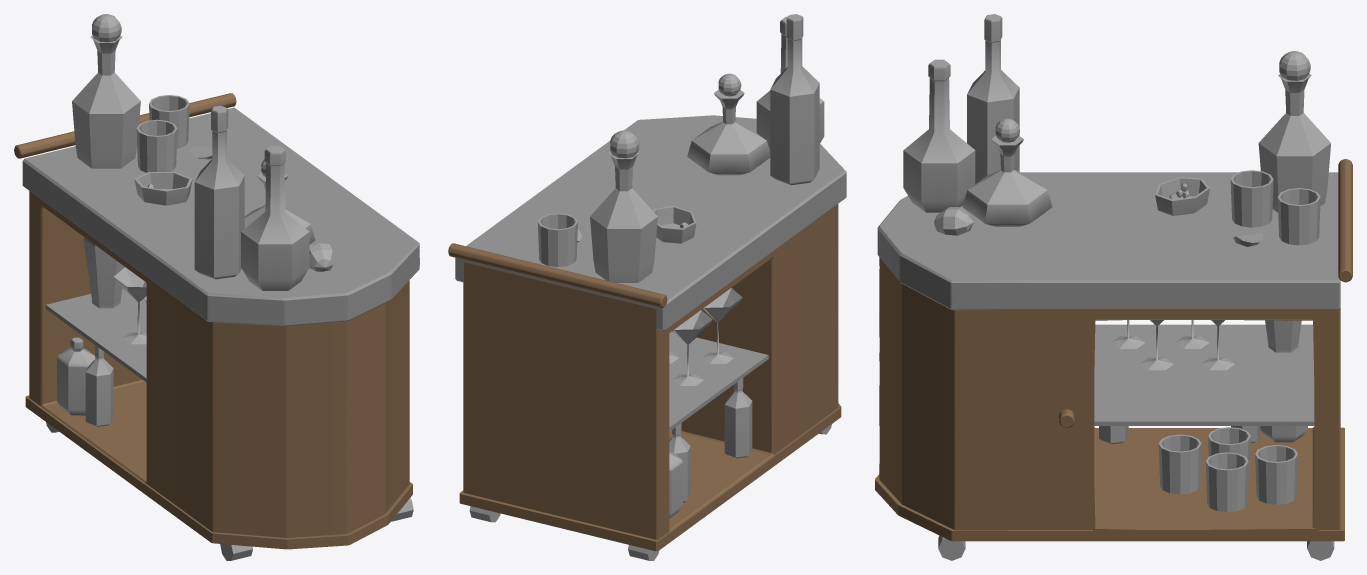
File: PAST-BarCart.fbx
3 renders of one model, left to right at view 1: azimuth 30°, elevation 25°; view 2: azimuth 150°, elevation 25°; view 3: azimuth 270°, elevation 25°, orthographic. The views are drawn at different scales.
Parts seen in each view (by area): view 1: pCylinder1, pCube4, pCylinder7, pCylinder8, pCylinder6, pCylinder16, pCylinder14, pCylinder23, pCylinder17, pCylinder22, pCylinder15, pCylinder19 (+4 smaller); view 2: pCylinder1, pCube4, pCylinder7, pCylinder8, pCylinder9, pCylinder15, pCylinder28, pCylinder22, pCylinder6, pCylinder18, pCylinder19, pCylinder16 (+3 smaller); view 3: pCylinder1, pCube4, pCylinder6, pCylinder8, pCylinder7, pCylinder9, pCylinder27, pCylinder26, pCylinder24, pCylinder14, pCylinder15, pCylinder22 (+6 smaller).
Boxes of the visible parts, box(x1,y1,x2,y2) form: pCylinder1: box(14, 93, 412, 549); pCube4: box(22, 107, 419, 382); pCylinder7: box(194, 105, 244, 279); pCylinder8: box(72, 35, 140, 168); pCylinder6: box(241, 145, 309, 290); pCylinder16: box(57, 337, 95, 415); pCylinder14: box(136, 119, 177, 172); pCylinder23: box(85, 345, 113, 426); pCylinder17: box(83, 237, 124, 308); pCylinder22: box(134, 172, 192, 205); pCylinder15: box(149, 95, 189, 148); pCylinder19: box(114, 267, 146, 344); pCylinder1: box(448, 204, 841, 551); pCube4: box(455, 115, 846, 431); pCylinder7: box(770, 14, 819, 185); pCylinder8: box(590, 151, 657, 282); pCylinder9: box(687, 89, 770, 175); pCylinder15: box(537, 213, 577, 266); pCylinder28: box(724, 378, 752, 458); pCylinder22: box(653, 206, 696, 243); pCylinder6: box(756, 16, 824, 151); pCylinder18: box(702, 288, 742, 363); pCylinder19: box(672, 310, 712, 385); pCylinder16: box(669, 452, 682, 518); pCylinder1: box(875, 159, 1352, 541); pCube4: box(877, 172, 1340, 425); pCylinder6: box(903, 59, 975, 212); pCylinder8: box(1258, 73, 1330, 212); pCylinder7: box(967, 14, 1019, 183); pCylinder9: box(962, 136, 1052, 226); pCylinder27: box(1158, 434, 1201, 494); pCylinder26: box(1205, 452, 1248, 512); pCylinder24: box(1255, 445, 1297, 504); pCylinder14: box(1230, 170, 1273, 227); pCylinder15: box(1277, 188, 1320, 245); pCylinder22: box(1155, 177, 1209, 215).
Bounding box in the file's own units: 168 × 322 × 304.
